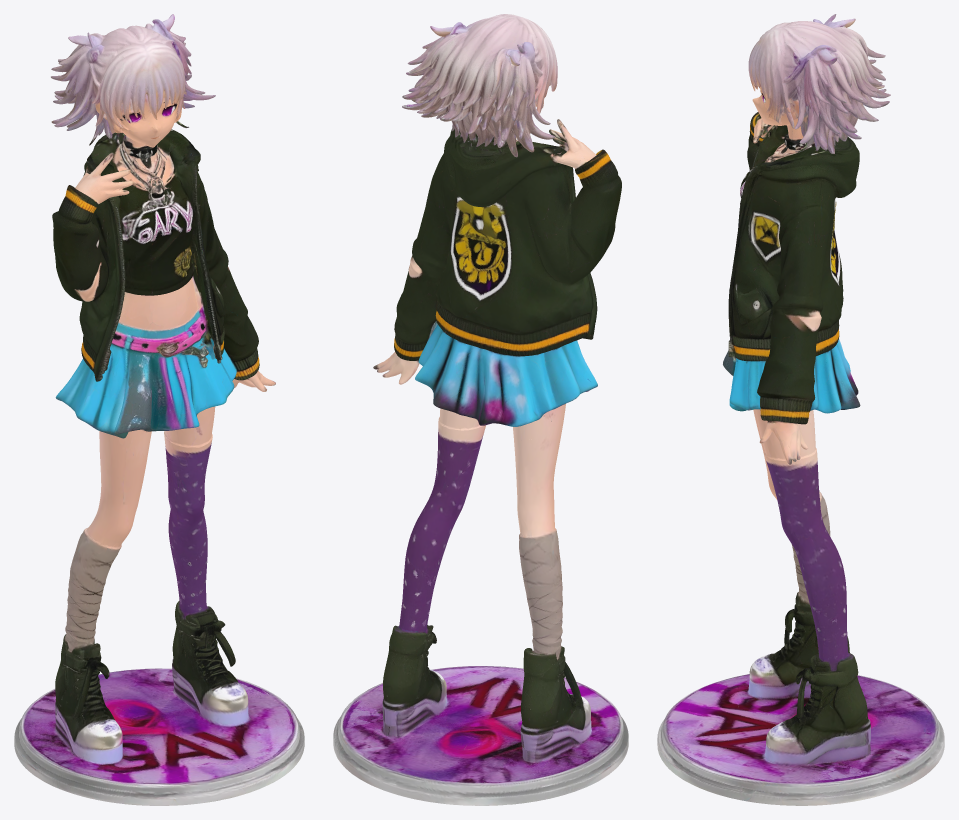
3 renders of one model, left to right at view 1: azimuth 30°, elevation 25°; view 2: azimuth 150°, elevation 25°; view 3: azimuth 270°, elevation 25°, orthographic. The views are drawn at different scales.
Size of the model in its own units: 0.6963 by 1.9 by 0.6963.
Materials: 1 (1 with a texture image).
